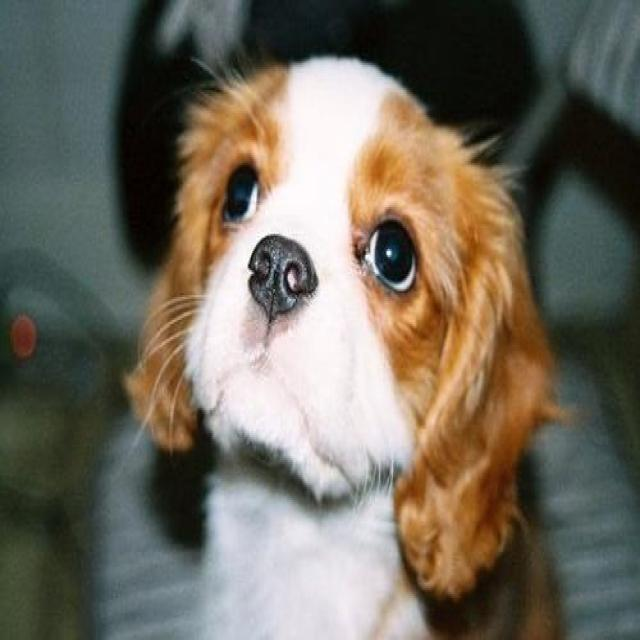blenheim_spaniel: (126, 56, 574, 638)
